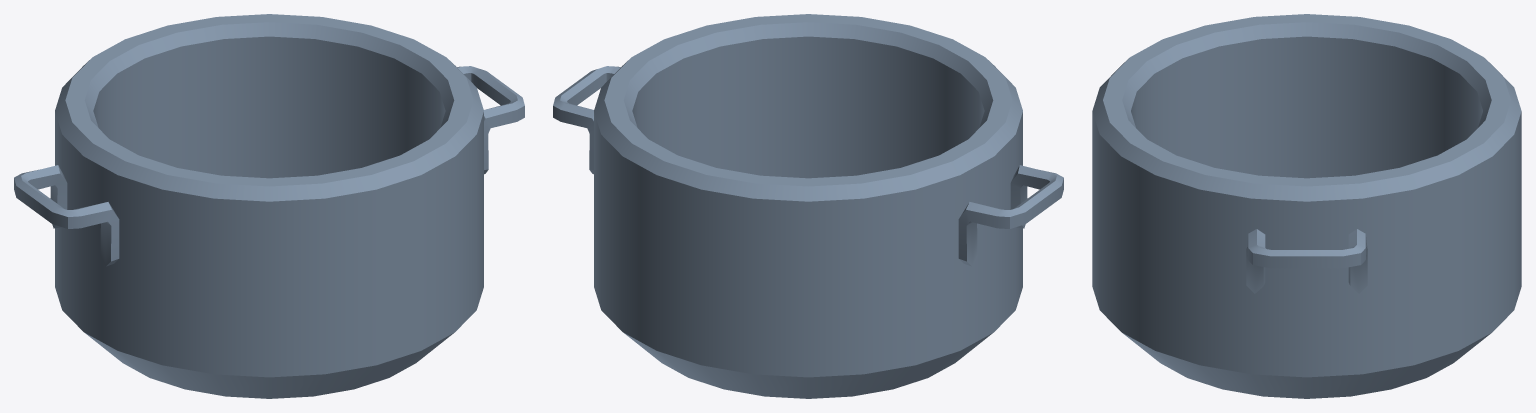
Rendered from pot_1_empty.glb.
3 renders of one model, left to right at view 1: azimuth 30°, elevation 25°; view 2: azimuth 150°, elevation 25°; view 3: azimuth 270°, elevation 25°, orthographic.
Visible parts, largest first — view 1: Environment_Pot_1_Empty; view 2: Environment_Pot_1_Empty; view 3: Environment_Pot_1_Empty.
Boxes of the visible parts, bbox=[...] form: Environment_Pot_1_Empty: bbox=[14, 14, 524, 398]; Environment_Pot_1_Empty: bbox=[553, 14, 1063, 398]; Environment_Pot_1_Empty: bbox=[1092, 14, 1521, 398].
Size of the model in its own units: 1.58 by 0.731 by 1.25.
Materials: 1 (1 with a texture image).
